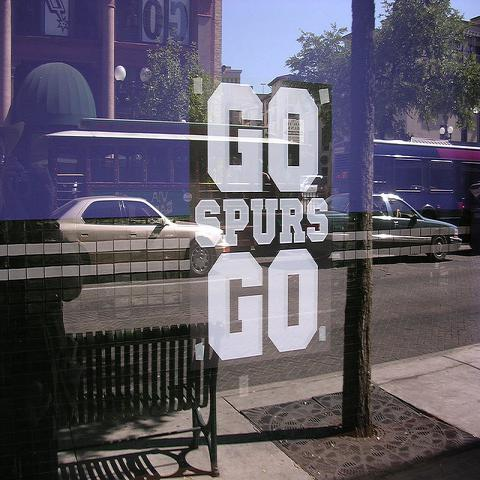bus: (49, 120, 321, 222), (331, 138, 479, 224)
car: (52, 196, 230, 283), (280, 192, 468, 261)
